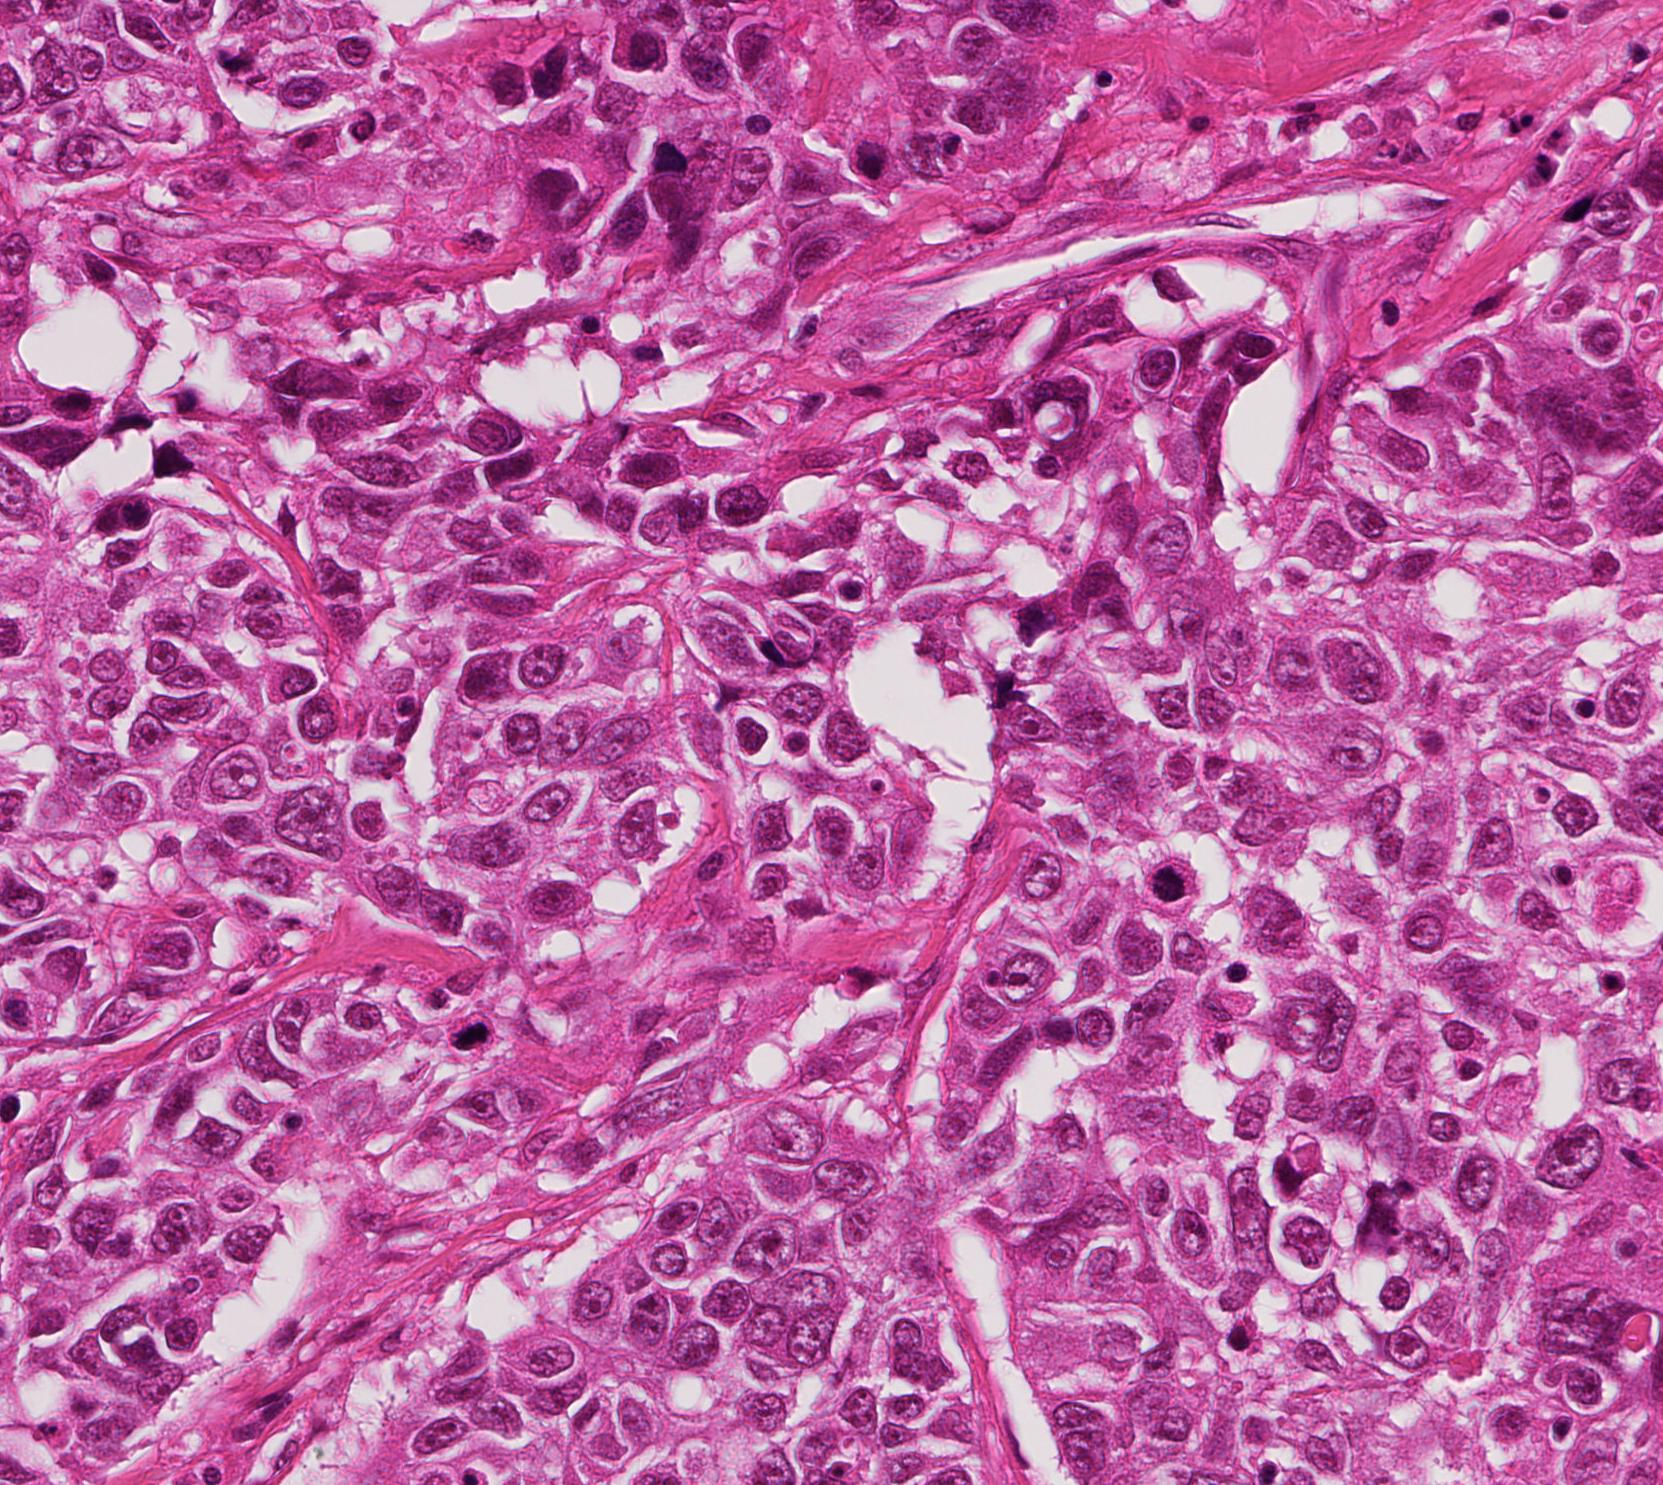mitosis: (1138, 850, 1199, 910), (442, 1006, 502, 1066)
